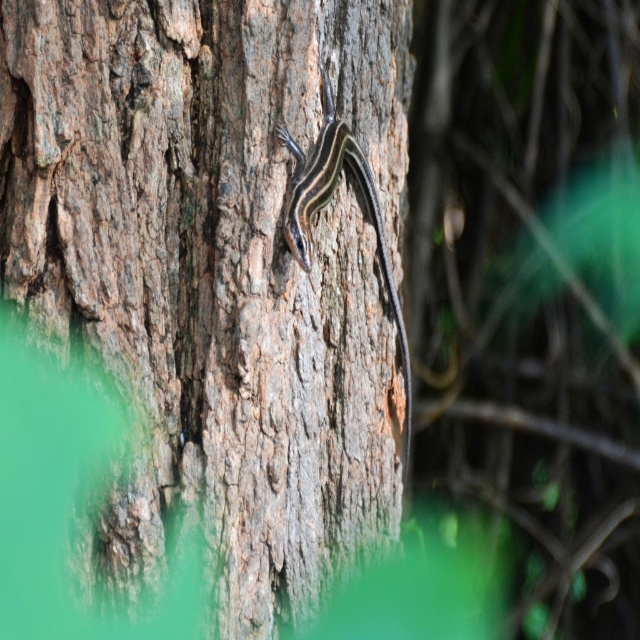Lizard: (270, 54, 404, 483)
